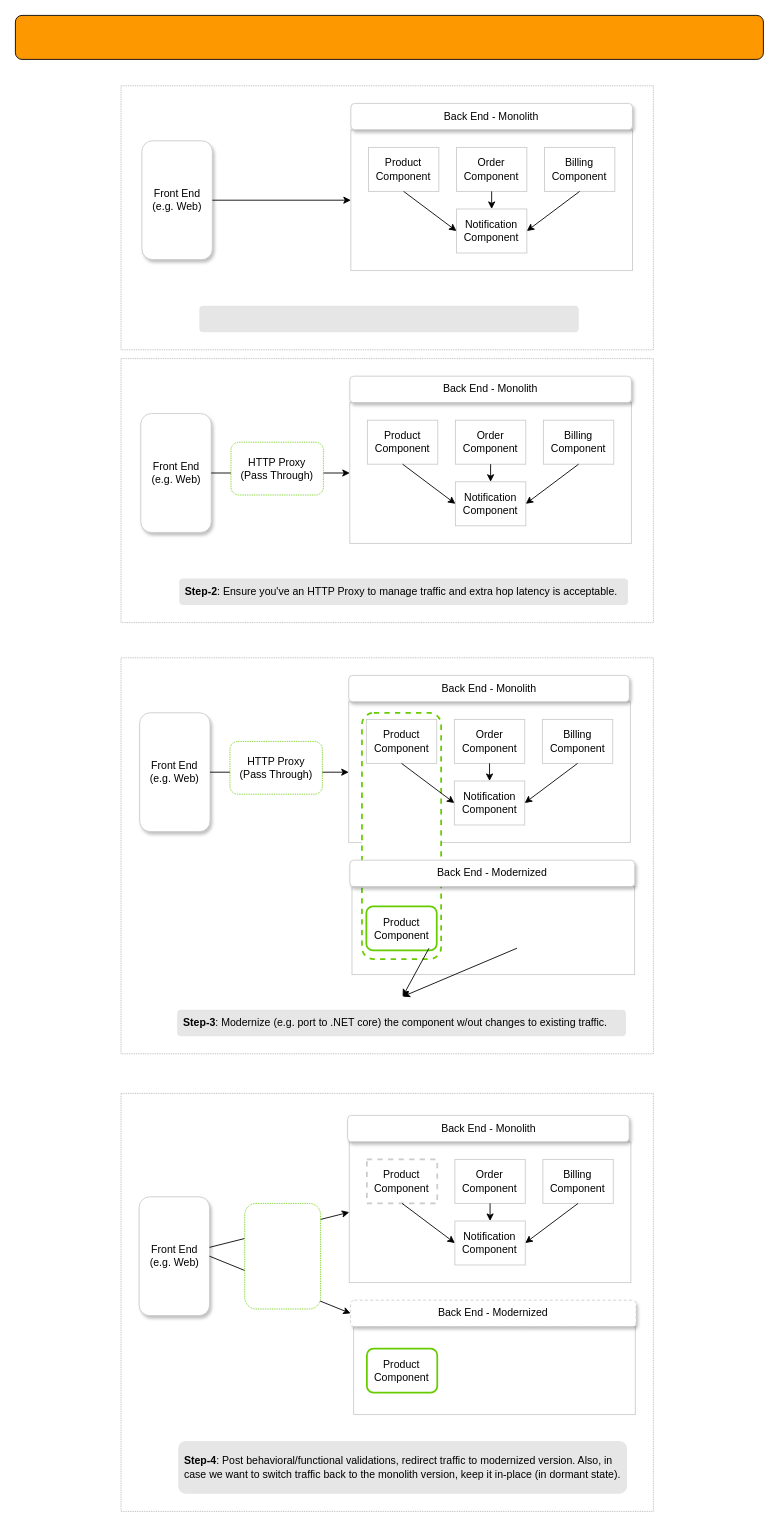
The diagram is 779 pixels wide and 1527 high, and some of its shapes have lost their labels. The centre of each missing label's shape, as x and y in pixels:
"HTTP Proxy" goes at (282,1256).
"Step-1 : Identify component to move. Here, we will move Product Component" goes at (388,318).
"Strangler Fig Pattern" goes at (389,37).
